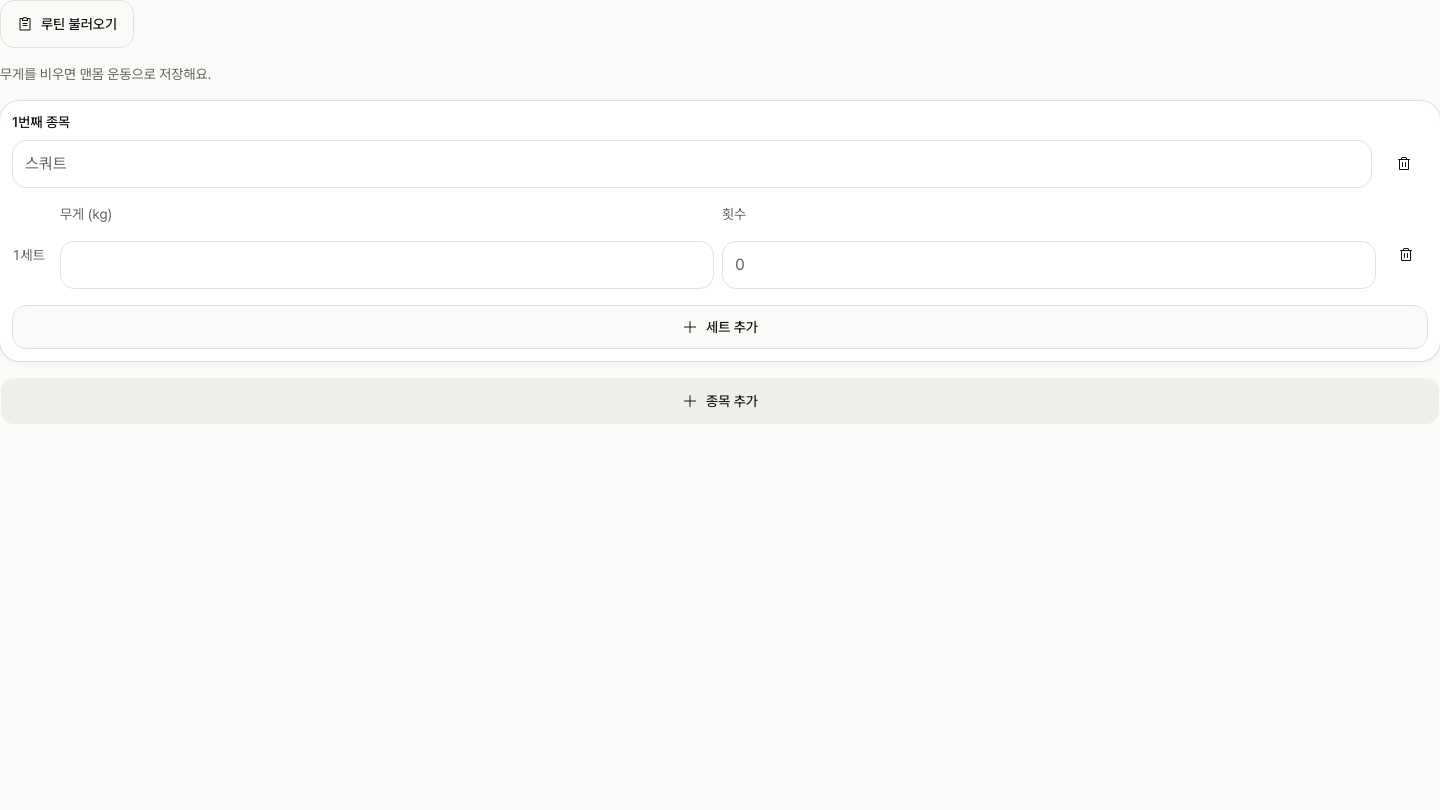
Test: 루틴 불러오기 › 아무것도 적지 않았으면 묻지 않고 루틴으로 채운다
The image size is (1440, 810).
Click the button "루틴 불러오기". click: {"x": 67, "y": 24}
box: top-left (0, 0), bottom-right (134, 48)
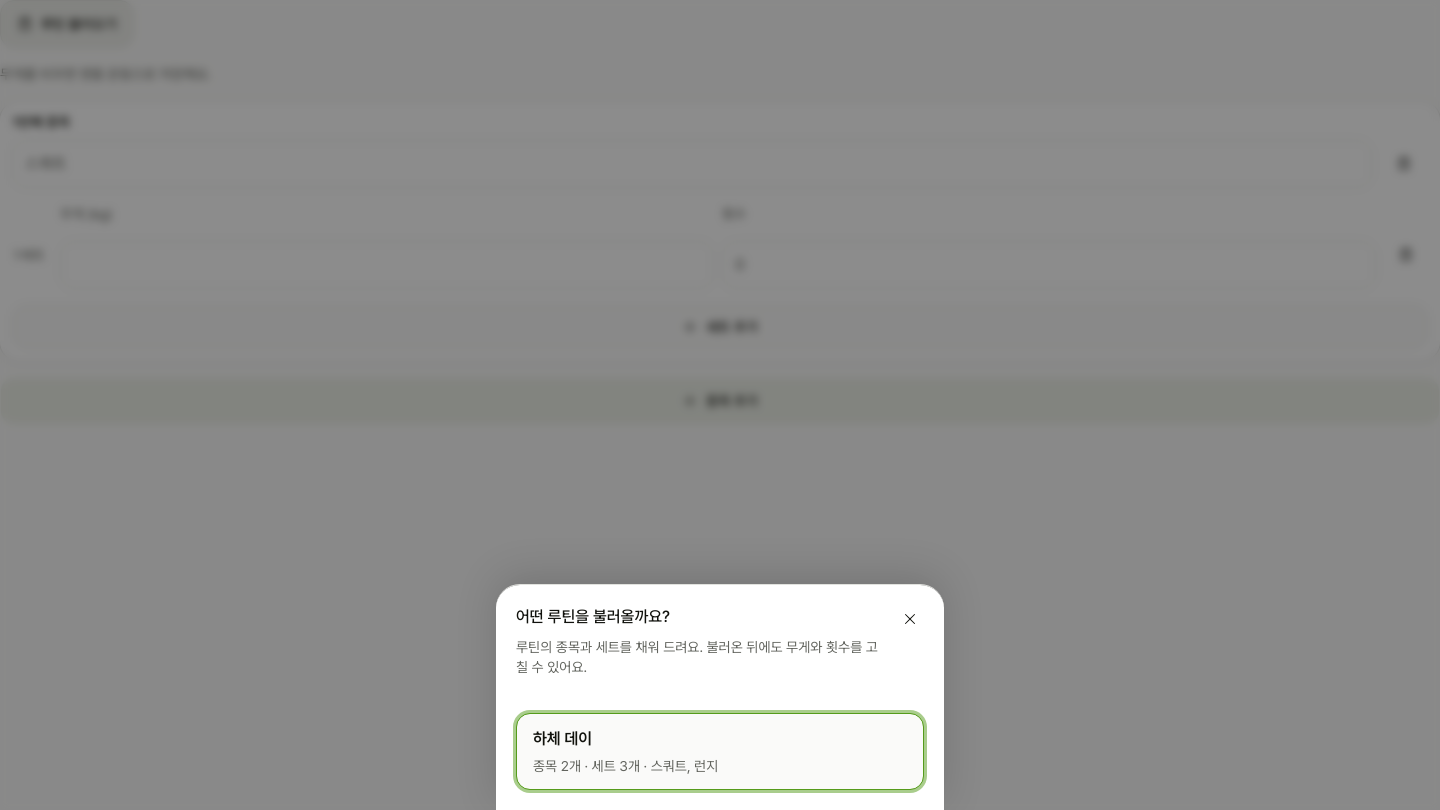
Click the button "하체 데이 종목 2개 · 세트 3개 · 스쿼트, 런지". click: {"x": 563, "y": 739}
box: top-left (516, 713), bottom-right (924, 790)
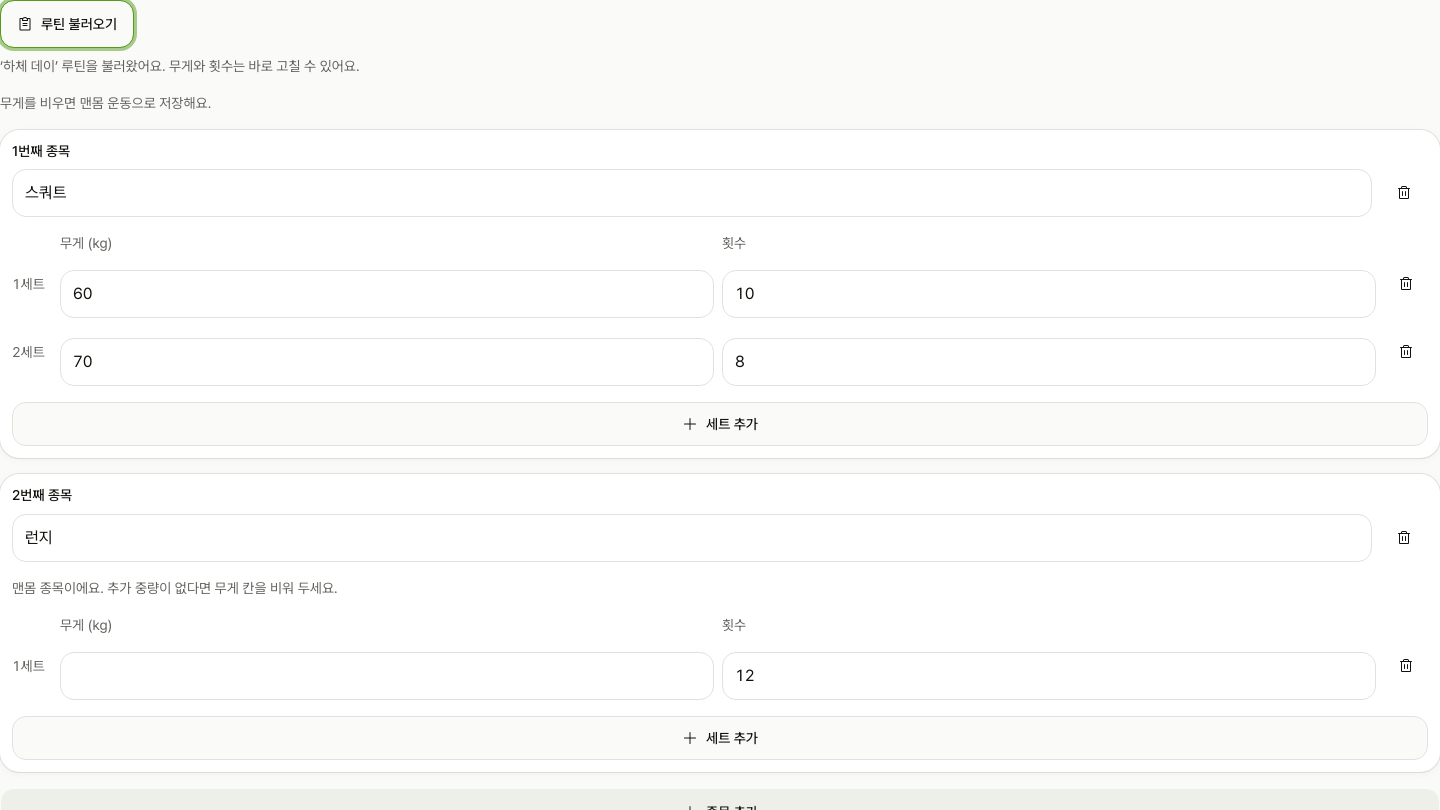
expect the 3rd field named "1번째 종목 2세트 무게 (kg)" holds "70": met, box top-left (60, 338), bottom-right (714, 386)
expect the 5th field named "2번째 종목 1세트 무게 (kg)" is empty: met, box top-left (60, 652), bottom-right (714, 700)
expect the text "‘하체 데이’ 루틴을 불러왔어요. 무게와 횟수는 바로 고칠 수 있어요." is shown: met, box top-left (0, 58), bottom-right (360, 74)
